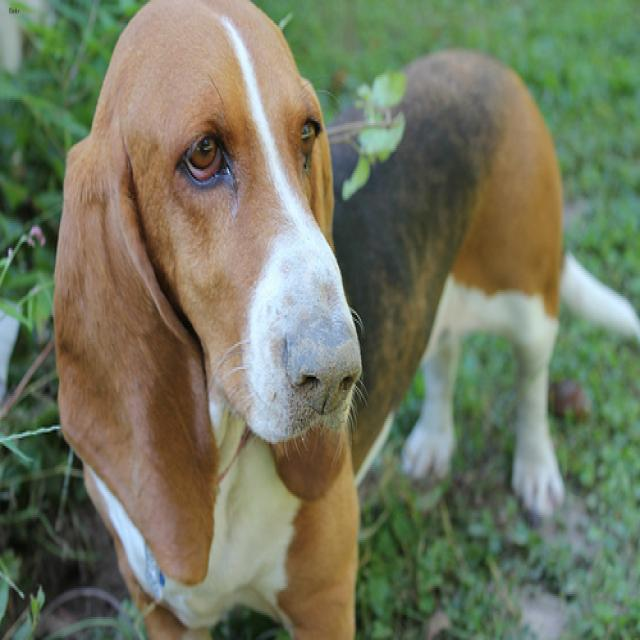dog-basset_hound: (44, 2, 637, 636)
